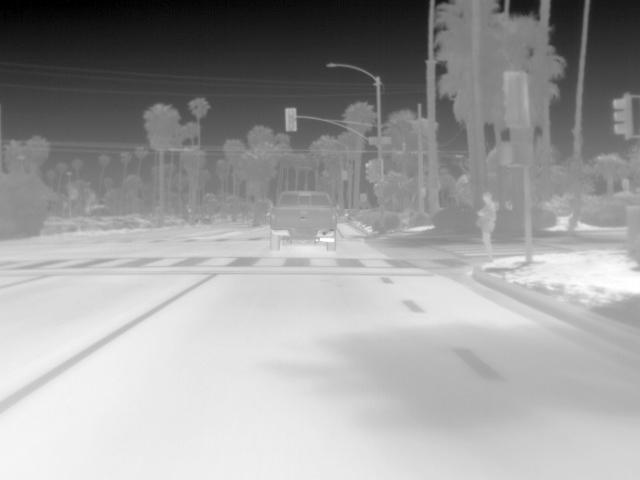car: (268, 188, 342, 252)
person: (475, 190, 501, 266)
